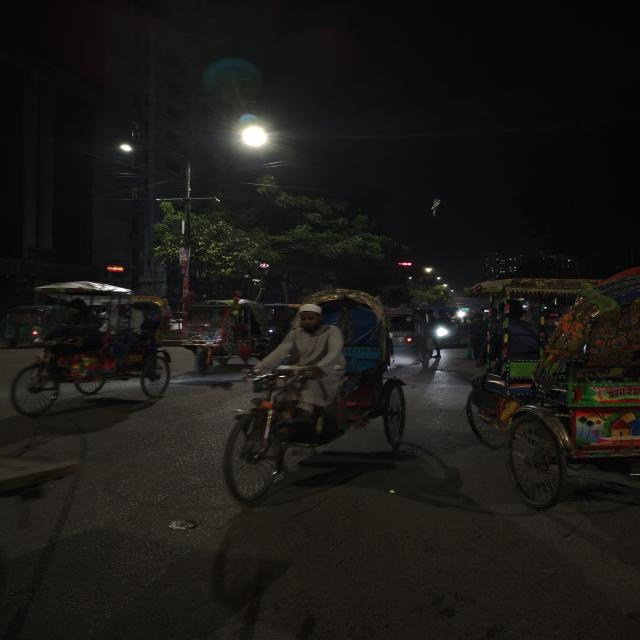rickshaw: (212, 289, 412, 511), (466, 262, 640, 517), (5, 285, 178, 421)
